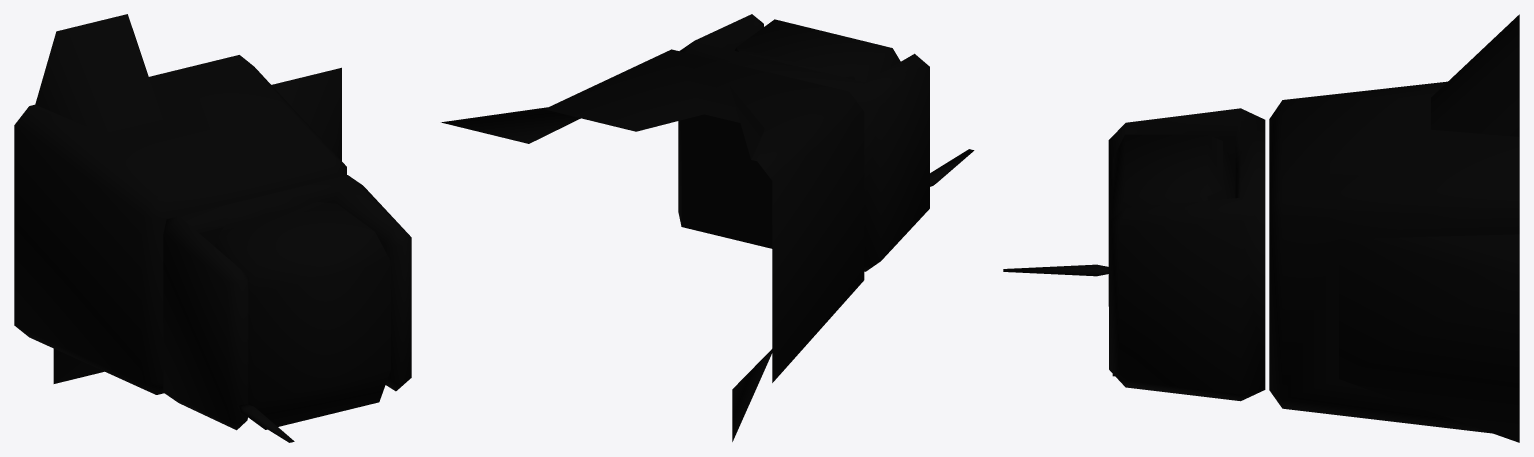
The model's file is turret_hgn_hq_missile_01.glb.
The picture shows the model from 3 angles, left to right: view 1: azimuth 30°, elevation 25°; view 2: azimuth 150°, elevation 25°; view 3: azimuth 270°, elevation 25°; orthographic projection. The views are drawn at different scales.
Parts seen in each view (by area): view 1: turret_hgn_hq_missile_01, turret_hgn_hq_missile_01_launcher_low, turret_hgn_hq_missile_01_rotate_base_low, turret_hgn_hq_missile_01_antenna_low; view 2: turret_hgn_hq_missile_01, turret_hgn_hq_missile_01_rotate_base_low, turret_hgn_hq_missile_01_launcher_low; view 3: turret_hgn_hq_missile_01, turret_hgn_hq_missile_01_rotate_base_low, turret_hgn_hq_missile_01_launcher_low, turret_hgn_hq_missile_01_antenna_low.
Boxes of the visible parts, x1=… form: turret_hgn_hq_missile_01: x1=14, y1=14, x2=346, y2=394; turret_hgn_hq_missile_01_launcher_low: x1=214, y1=201, x2=390, y2=429; turret_hgn_hq_missile_01_rotate_base_low: x1=163, y1=175, x2=411, y2=430; turret_hgn_hq_missile_01_antenna_low: x1=237, y1=404, x2=294, y2=442; turret_hgn_hq_missile_01: x1=441, y1=49, x2=864, y2=441; turret_hgn_hq_missile_01_rotate_base_low: x1=678, y1=14, x2=929, y2=271; turret_hgn_hq_missile_01_launcher_low: x1=735, y1=19, x2=900, y2=82; turret_hgn_hq_missile_01: x1=1269, y1=14, x2=1519, y2=442; turret_hgn_hq_missile_01_rotate_base_low: x1=1108, y1=108, x2=1265, y2=401; turret_hgn_hq_missile_01_launcher_low: x1=1112, y1=134, x2=1235, y2=376; turret_hgn_hq_missile_01_antenna_low: x1=1003, y1=264, x2=1108, y2=276.
Bounding box in the file's own units: 0.0326 × 0.0335 × 0.0409.
Materials: 1 (1 with a texture image).
